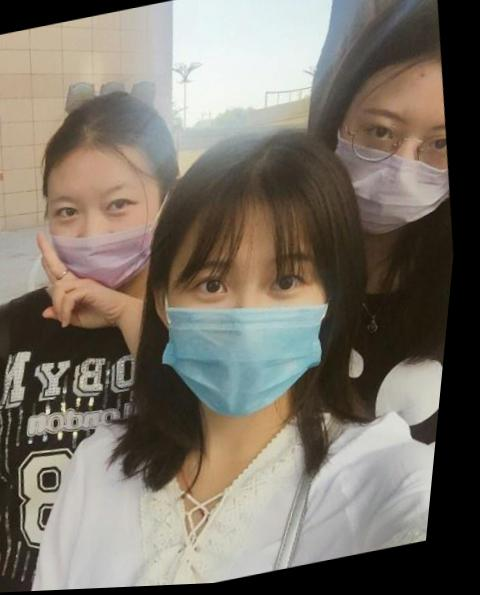OK: (154, 228, 361, 428), (326, 89, 467, 247)
WRONG: (38, 162, 182, 301)
